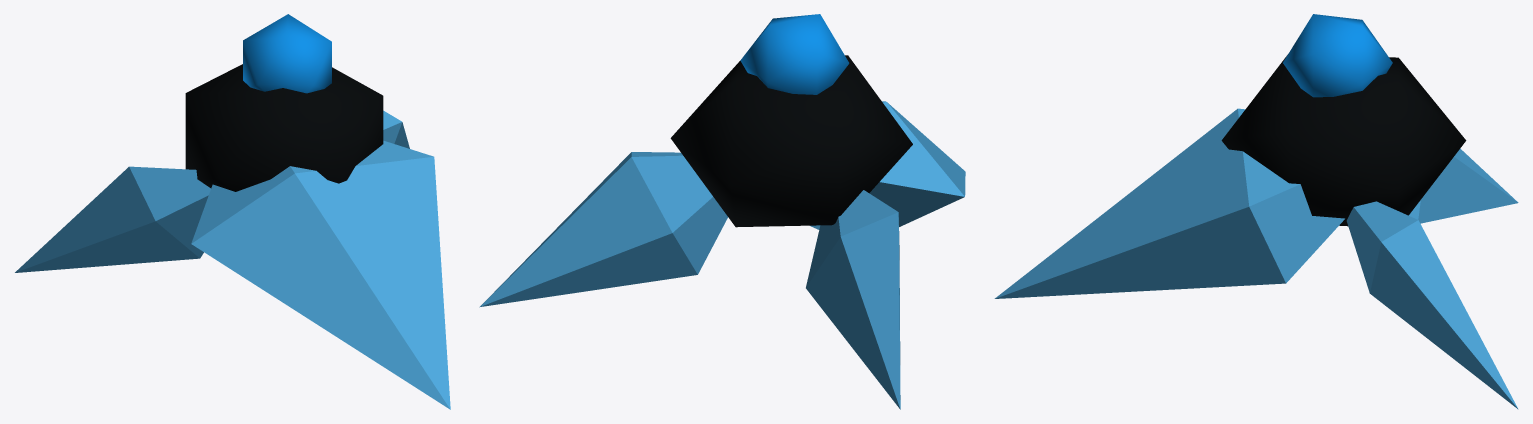
The model's file is SwarmEnemy.obj.
3 views of the same model, side by side, from view 1: azimuth 30°, elevation 25°; view 2: azimuth 150°, elevation 25°; view 3: azimuth 270°, elevation 25° (orthographic). The views are drawn at different scales.
Parts seen in each view (by area): view 1: SwarmEnemy; view 2: SwarmEnemy; view 3: SwarmEnemy.
Boxes of the visible parts, box(x1,y1,x2,y2) form: SwarmEnemy: box(15, 14, 450, 409); SwarmEnemy: box(479, 14, 965, 409); SwarmEnemy: box(994, 14, 1518, 409).
Bounding box in the file's own units: 1.4 × 0.879 × 1.5.
